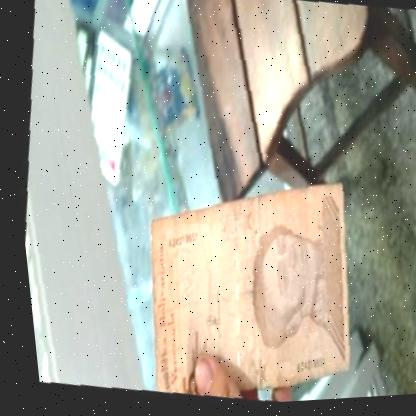five-front-vef: (111, 153, 375, 411)
